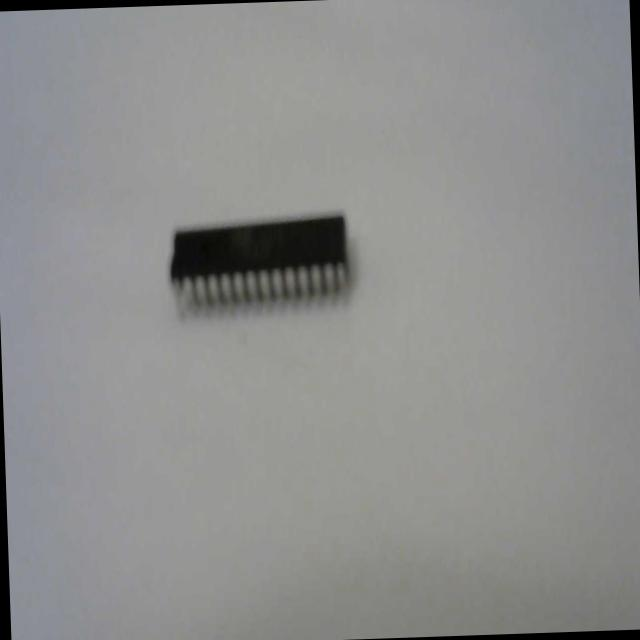atmega: (164, 205, 353, 324)
